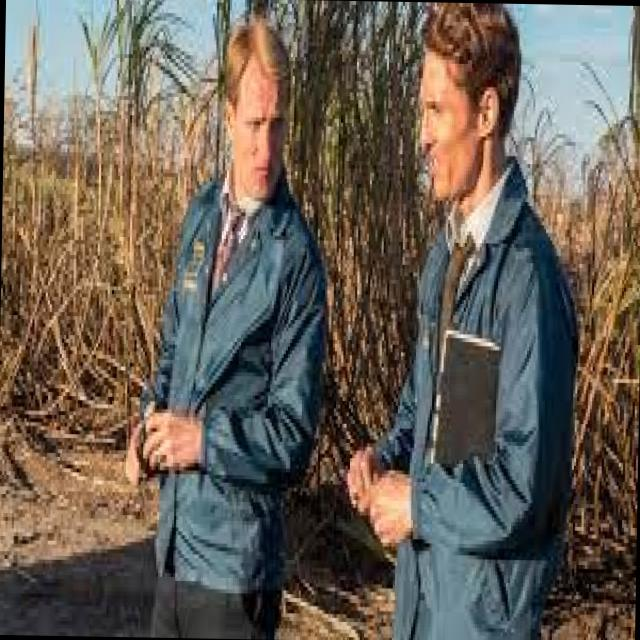Jacket: (384, 199, 588, 640), (114, 201, 339, 594)
